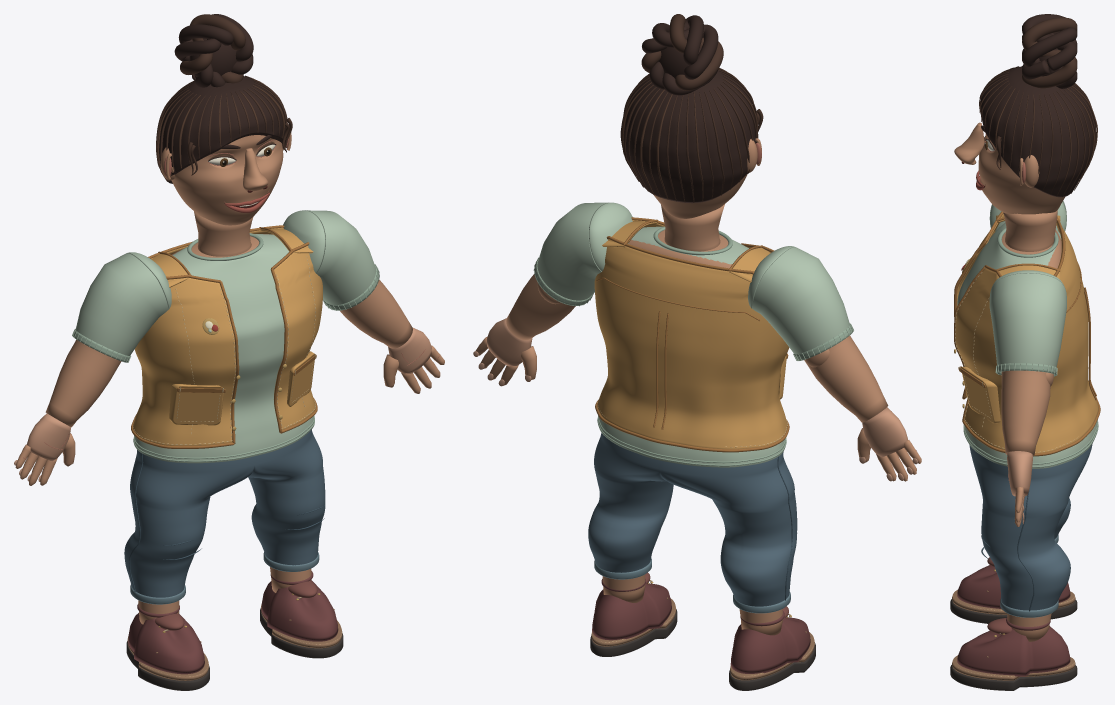
The picture shows the model from 3 angles, left to right: view 1: azimuth 30°, elevation 25°; view 2: azimuth 150°, elevation 25°; view 3: azimuth 270°, elevation 25°; orthographic projection. The views are drawn at different scales.
Parts seen in each view (by area): view 1: Clothing / continuous tailored trousers, Clothing / open ochre woven vest, Clothing / sage jersey body, Hair / continuous swept hair cap, Clothing / L jersey sleeve, Face / unified adult oval head, Clothing / R jersey sleeve, Body / L arm, Footwear / L leather shoe upper, Footwear / R leather shoe upper, Body / R arm, Hair sculpted strands / Hair | warm ridges (+15 smaller); view 2: Clothing / open ochre woven vest, Clothing / continuous tailored trousers, Hair / continuous swept hair cap, Clothing / L jersey sleeve, Clothing / R jersey sleeve, Clothing / sage jersey body, Body / L arm, Hair sculpted strands / Hair | warm ridges, Footwear / L leather shoe upper, Footwear / R leather shoe upper, Body / R arm, Body / neck (+15 smaller); view 3: Clothing / continuous tailored trousers, Clothing / open ochre woven vest, Hair / continuous swept hair cap, Clothing / R jersey sleeve, Footwear / R leather shoe upper, Body / R arm, Face / unified adult oval head, Clothing / sage jersey body, Hair sculpted strands / Hair | warm ridges, Body / neck, Hair / interwoven bun braid strand 2, Footwear / L leather shoe upper (+27 smaller).
Boxes of the visible parts, <box> form: Clothing / continuous tailored trousers: <box>124,429,325,597</box>; Clothing / open ochre woven vest: <box>133,227,322,445</box>; Clothing / sage jersey body: <box>134,234,313,463</box>; Hair / continuous swept hair cap: <box>159,76,286,183</box>; Clothing / L jersey sleeve: <box>75,253,168,355</box>; Face / unified adult oval head: <box>171,135,283,225</box>; Clothing / R jersey sleeve: <box>306,210,375,304</box>; Body / L arm: <box>45,339,121,427</box>; Footwear / L leather shoe upper: <box>128,613,204,674</box>; Footwear / R leather shoe upper: <box>261,580,338,641</box>; Body / R arm: <box>340,279,412,348</box>; Hair sculpted strands / Hair | warm ridges: <box>156,75,287,181</box>; Clothing / open ochre woven vest: <box>594,220,789,449</box>; Clothing / continuous tailored trousers: <box>588,433,797,606</box>; Hair / continuous swept hair cap: <box>623,69,756,203</box>; Clothing / L jersey sleeve: <box>752,247,849,354</box>; Clothing / R jersey sleeve: <box>537,202,607,300</box>; Clothing / sage jersey body: <box>598,226,785,467</box>; Body / L arm: <box>804,335,888,422</box>; Hair sculpted strands / Hair | warm ridges: <box>620,68,757,202</box>; Footwear / L leather shoe upper: <box>730,617,810,673</box>; Footwear / R leather shoe upper: <box>592,583,671,640</box>; Body / R arm: <box>506,274,575,340</box>; Body / neck: <box>661,204,724,251</box>; Clothing / continuous tailored trousers: <box>969,444,1092,610</box>; Clothing / open ochre woven vest: <box>955,214,1098,453</box>; Hair / continuous swept hair cap: <box>980,66,1095,197</box>; Clothing / R jersey sleeve: <box>989,273,1066,367</box>; Footwear / R leather shoe upper: <box>957,626,1070,676</box>; Body / R arm: <box>1001,370,1050,455</box>; Face / unified adult oval head: <box>978,133,1064,214</box>; Clothing / sage jersey body: <box>957,222,1097,468</box>; Hair sculpted strands / Hair | warm ridges: <box>979,66,1096,196</box>; Body / neck: <box>1003,210,1057,251</box>; Hair / interwoven bun braid strand 2: <box>1022,17,1077,88</box>; Footwear / L leather shoe upper: <box>957,565,1070,608</box>.
Size of the model in its own units: 0.9584 by 1.32 by 0.2883.
